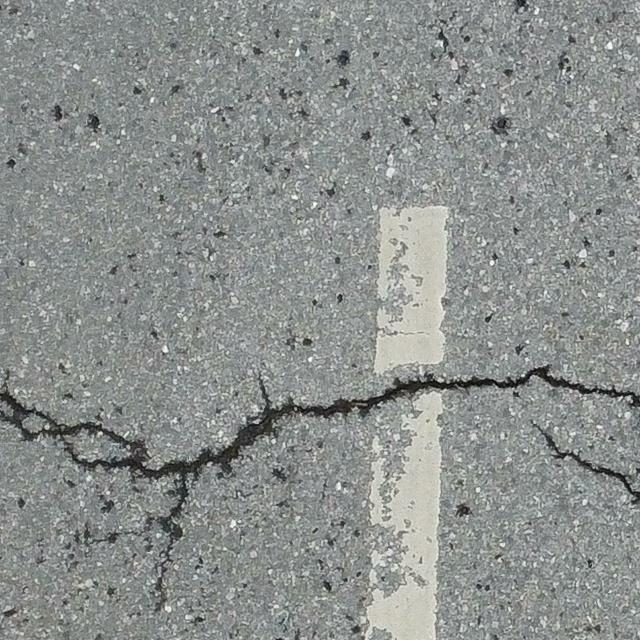TransverseCrack: (1, 368, 639, 538), (531, 419, 640, 510)
